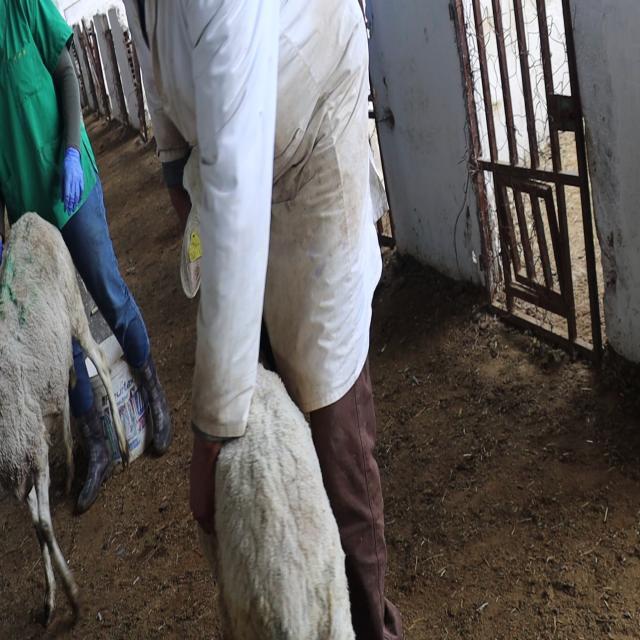Score_1: (214, 364, 355, 639)
